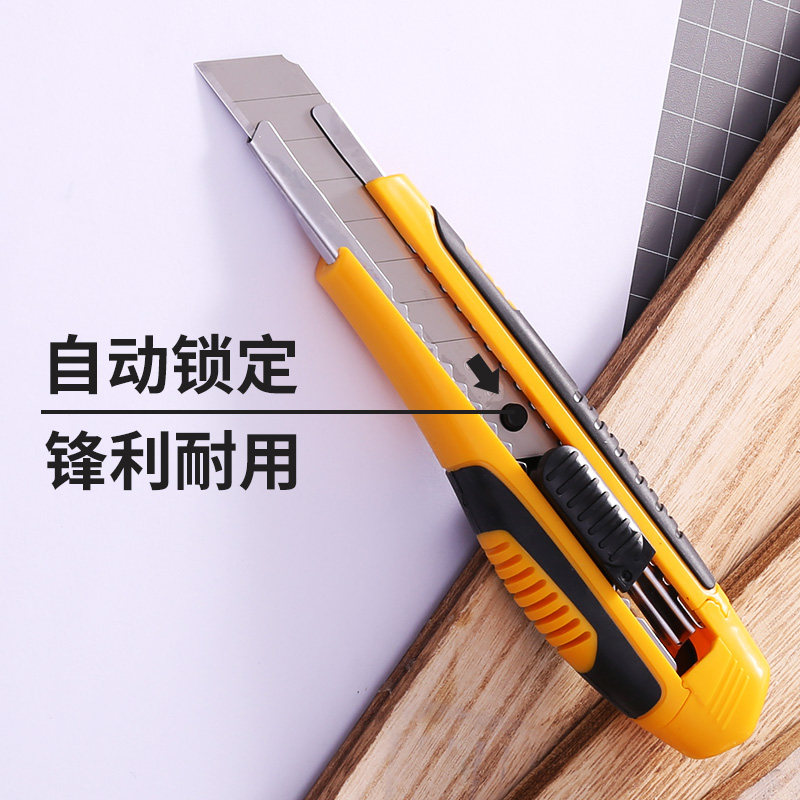cutter: (193, 53, 770, 759)
